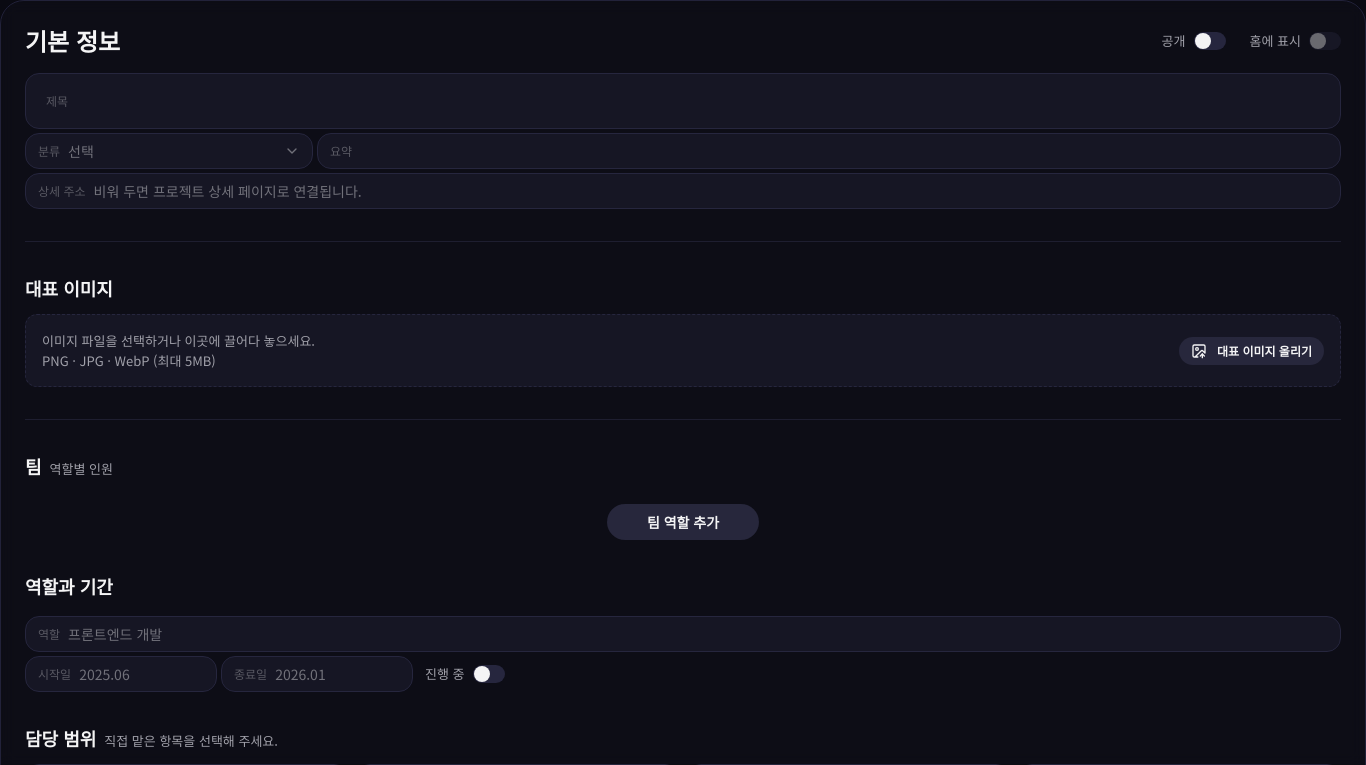
Test: ProjectForm › 공개를 켜야 홈 표시를 켤 수 있고, 공개를 끄면 홈에 표시도 함께 꺼진다
The width and height of the screenshot is (1366, 765).
Click the switch named "공개" next to "공개".
click(1210, 41)  # box [1194,32,1226,50]
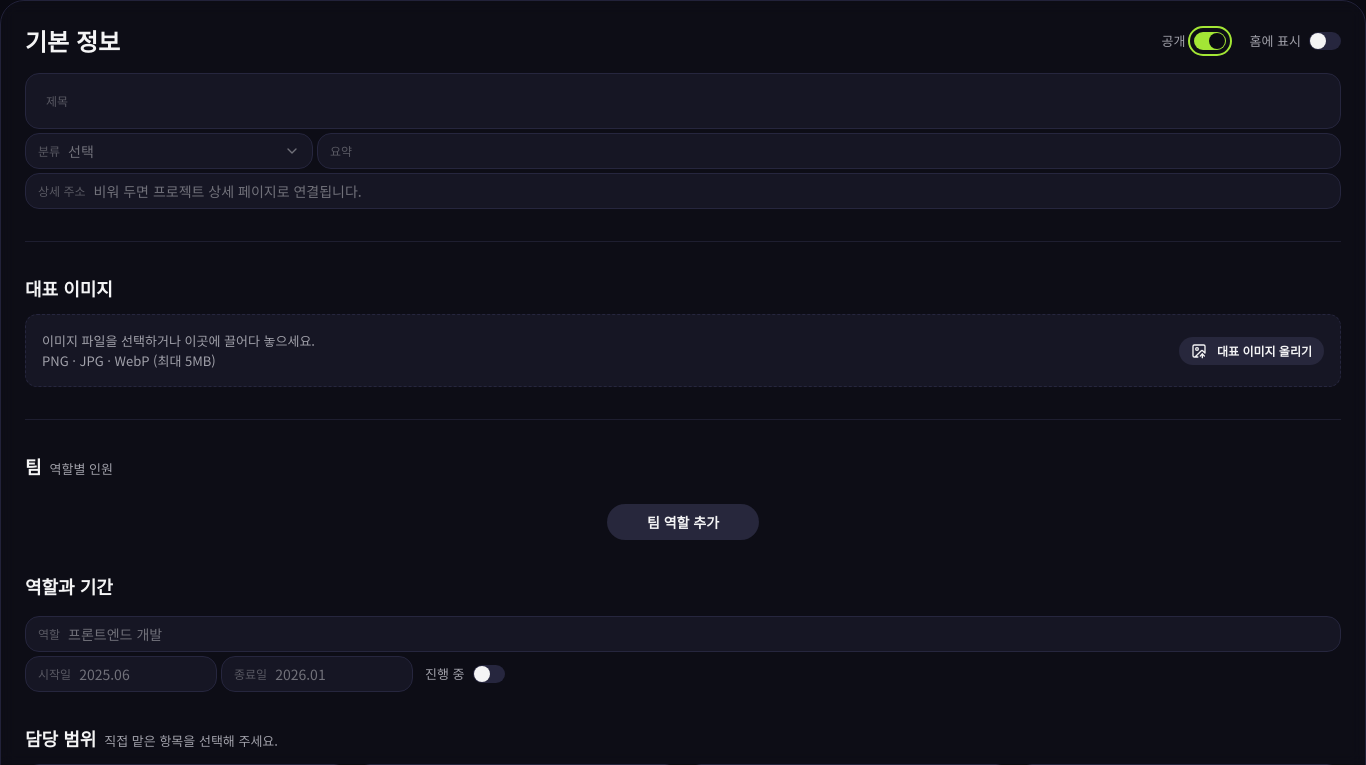
Check: the switch named "홈에 표시" next to "홈에 표시" is enabled
Click the switch named "홈에 표시" next to "홈에 표시".
click(1325, 41)  # box [1309,32,1341,50]
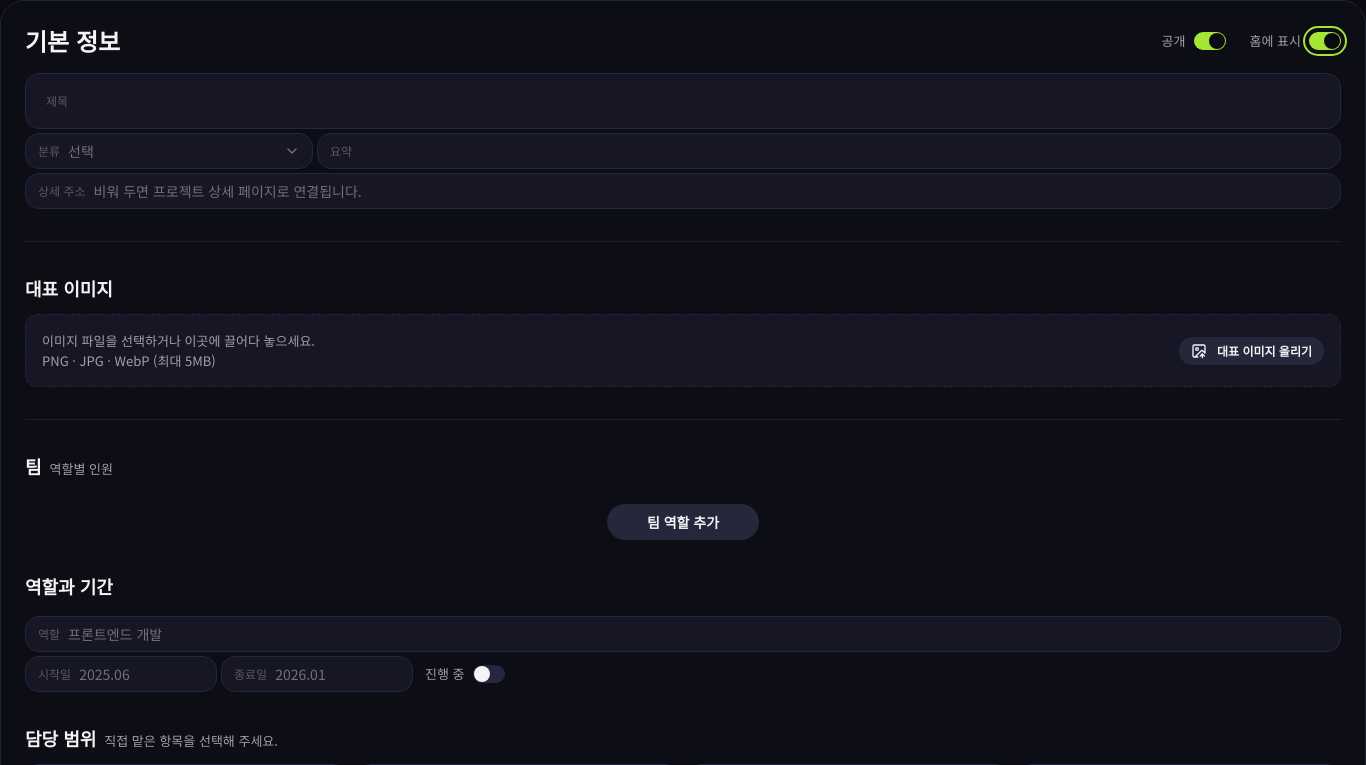
Check: the switch named "홈에 표시" next to "홈에 표시" is checked, box [1309,32,1341,50]
Click the switch named "공개" next to "공개".
click(1210, 41)  # box [1194,32,1226,50]
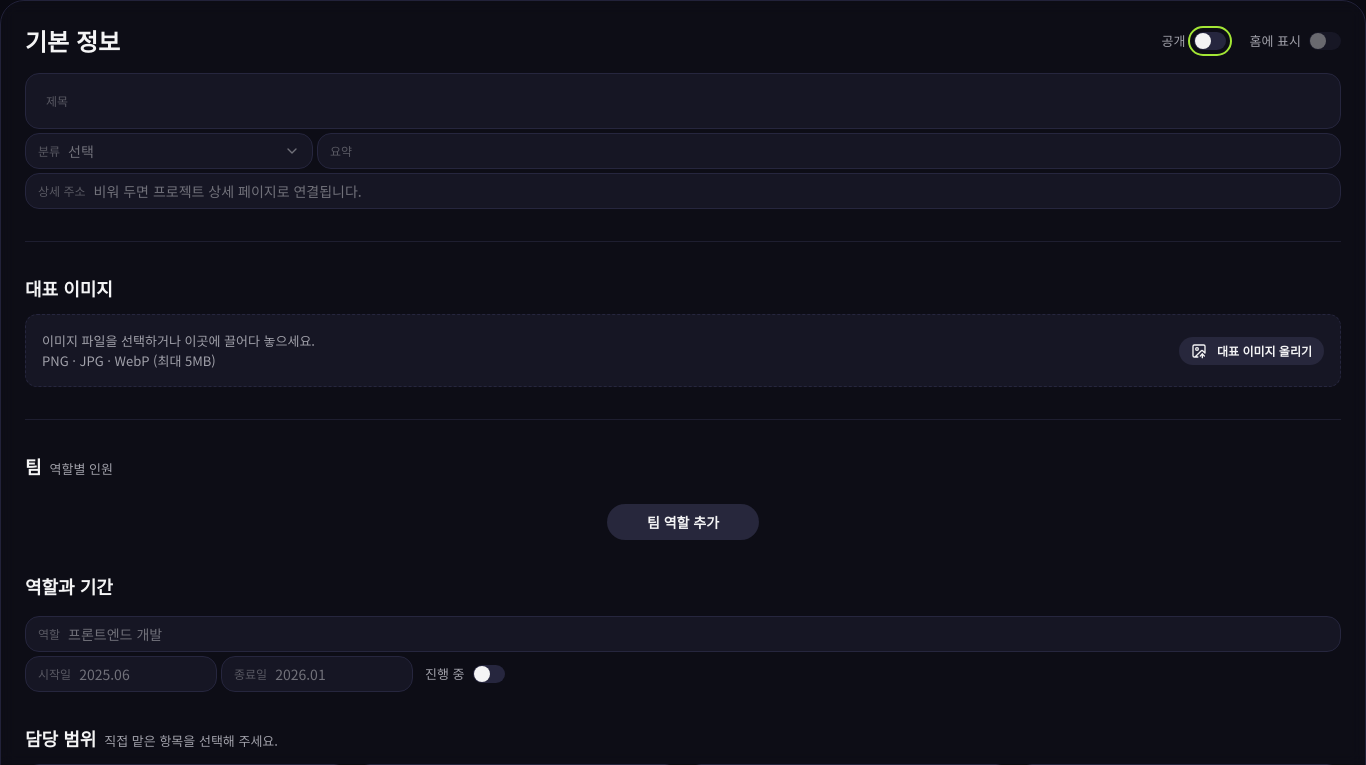
Check: the switch named "홈에 표시" next to "홈에 표시" is not checked, box [1309,32,1341,50]
Check: the switch named "홈에 표시" next to "홈에 표시" is disabled, box [1309,32,1341,50]
// 다시 공개해도 홈 표시가 꺼져 있다
Click the switch named "공개" next to "공개".
click(1210, 41)  # box [1194,32,1226,50]
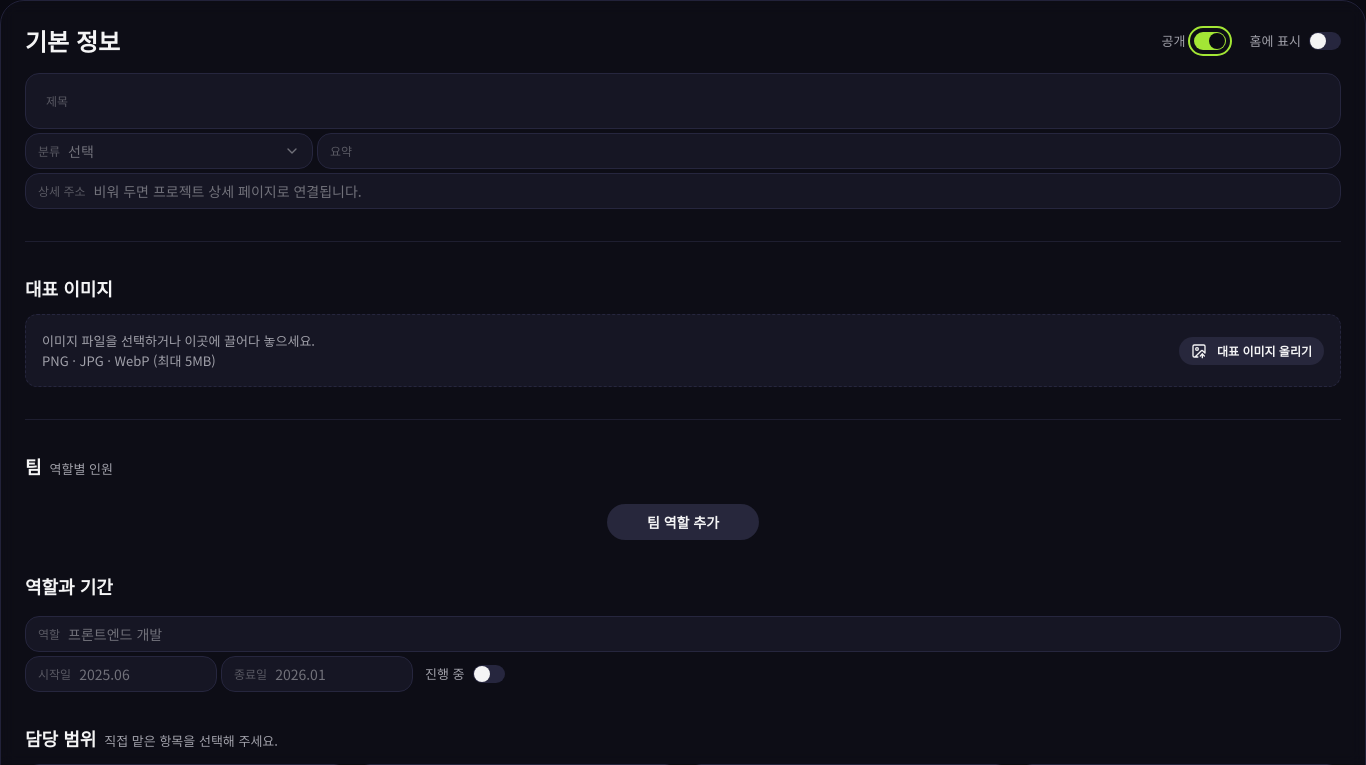
Check: the switch named "홈에 표시" next to "홈에 표시" is not checked, box [1309,32,1341,50]
